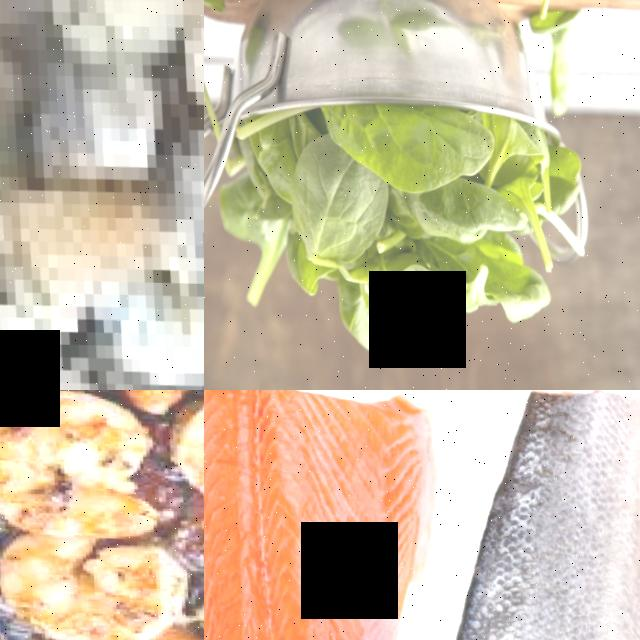salmon: (204, 390, 472, 640)
spinach: (0, 394, 146, 544), (0, 538, 181, 640), (363, 106, 482, 195), (275, 161, 370, 264), (154, 390, 204, 526)
